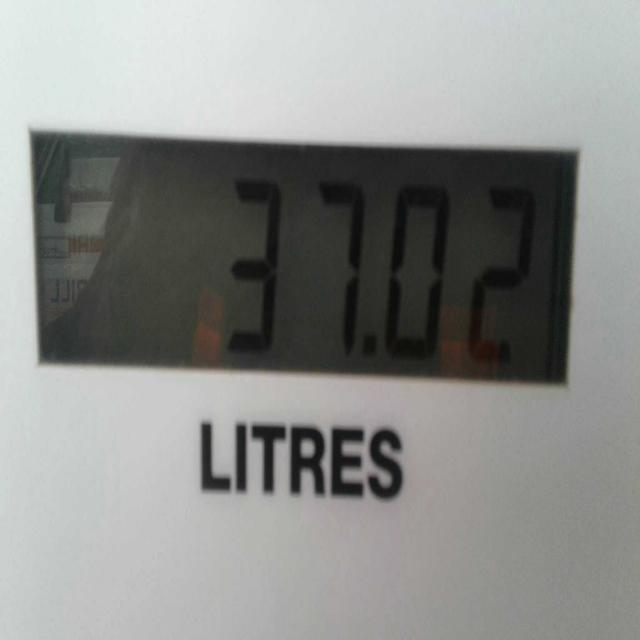.: (363, 332, 382, 356)
0: (382, 185, 451, 364)
2: (470, 188, 536, 368)
3: (226, 180, 282, 362)
7: (320, 180, 367, 364)
screen: (28, 128, 574, 390)
